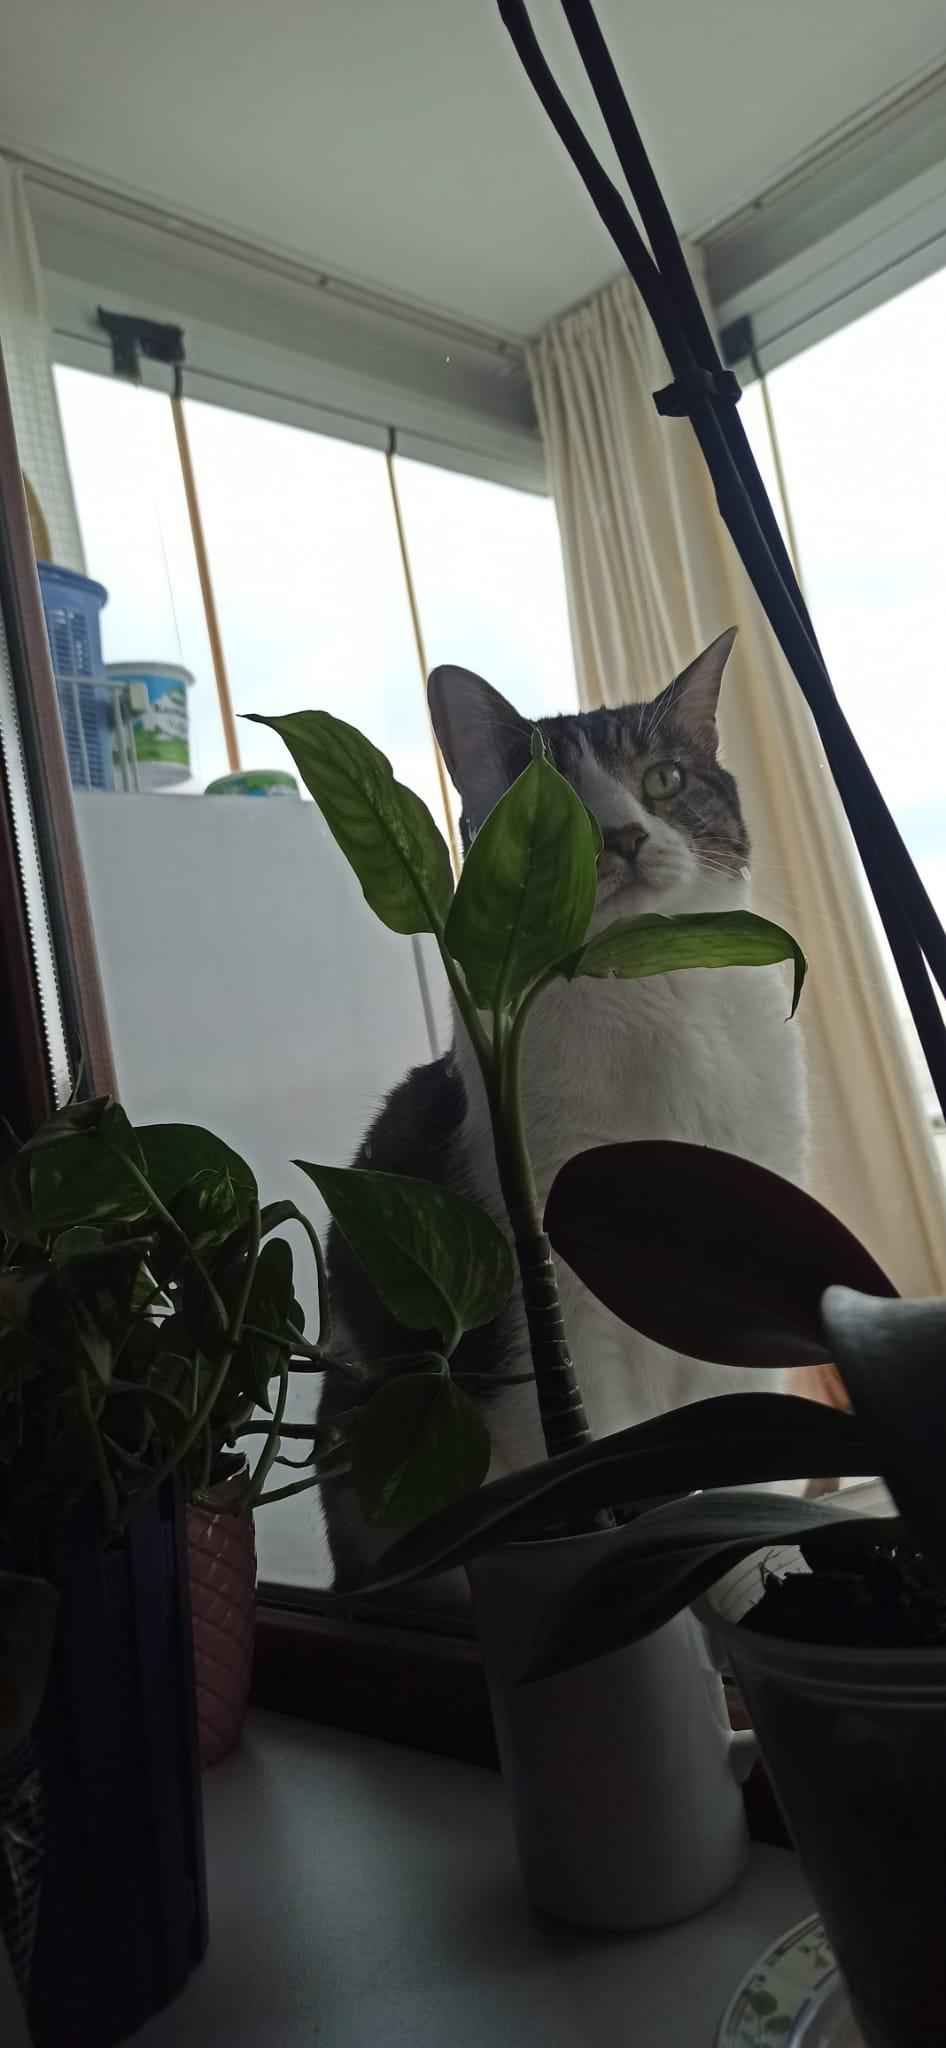kedo: (327, 627, 827, 1624)
